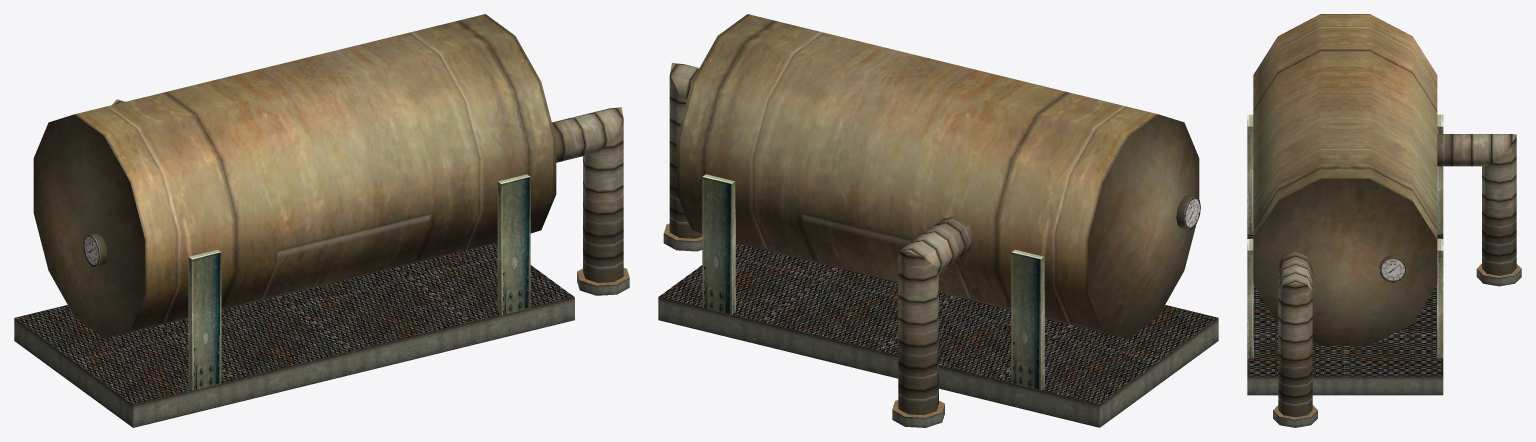
File: fuel_container_small.fbx
3 views of the same model, side by side, from view 1: azimuth 30°, elevation 25°; view 2: azimuth 150°, elevation 25°; view 3: azimuth 270°, elevation 25° (orthographic). The views are drawn at different scales.
Visible parts, largest first — view 1: mesh_0, mesh_2, mesh_1; view 2: mesh_0, mesh_2, mesh_1; view 3: mesh_0, mesh_1, mesh_2.
Part boxes in pixels (box(x1,y1,x2,y2)): mesh_0: box(14, 14, 629, 427); mesh_2: box(15, 243, 574, 404); mesh_1: box(33, 114, 145, 338); mesh_0: box(658, 14, 1218, 427); mesh_2: box(658, 243, 1218, 404); mesh_1: box(1087, 114, 1199, 338); mesh_0: box(1247, 14, 1521, 427); mesh_1: box(1253, 179, 1437, 345); mesh_2: box(1247, 234, 1443, 376).
Bounding box in the file's own units: 309 × 142 × 168.
3 materials, 3 textured.
